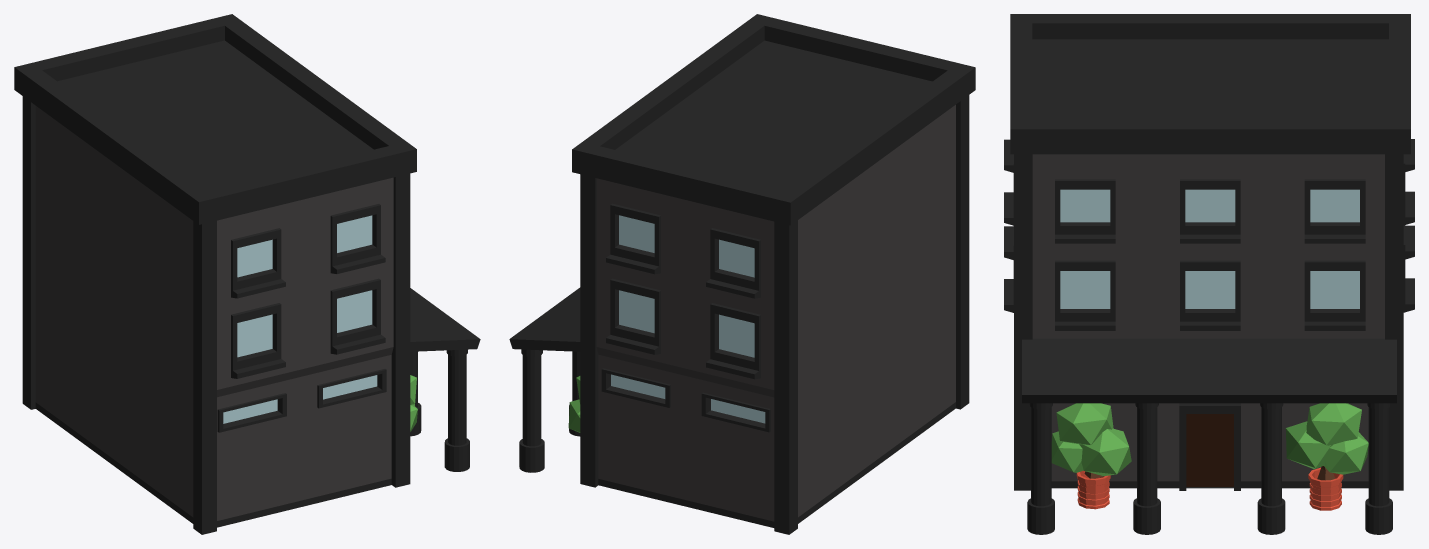
File: main_building_U02.fbx
The picture shows the model from 3 angles, left to right: view 1: azimuth 30°, elevation 25°; view 2: azimuth 150°, elevation 25°; view 3: azimuth 270°, elevation 25°; orthographic projection. The views are drawn at different scales.
Visible parts, largest first — view 1: Cylinder.001; view 2: Cylinder.001; view 3: Cylinder.001.
Part boxes in pixels (x1,y1,x2,y2): Cylinder.001: (14,14,480,534); Cylinder.001: (509,14,975,534); Cylinder.001: (1004,14,1414,534).
Bounding box in the file's own units: 1152 × 1310 × 1315.
